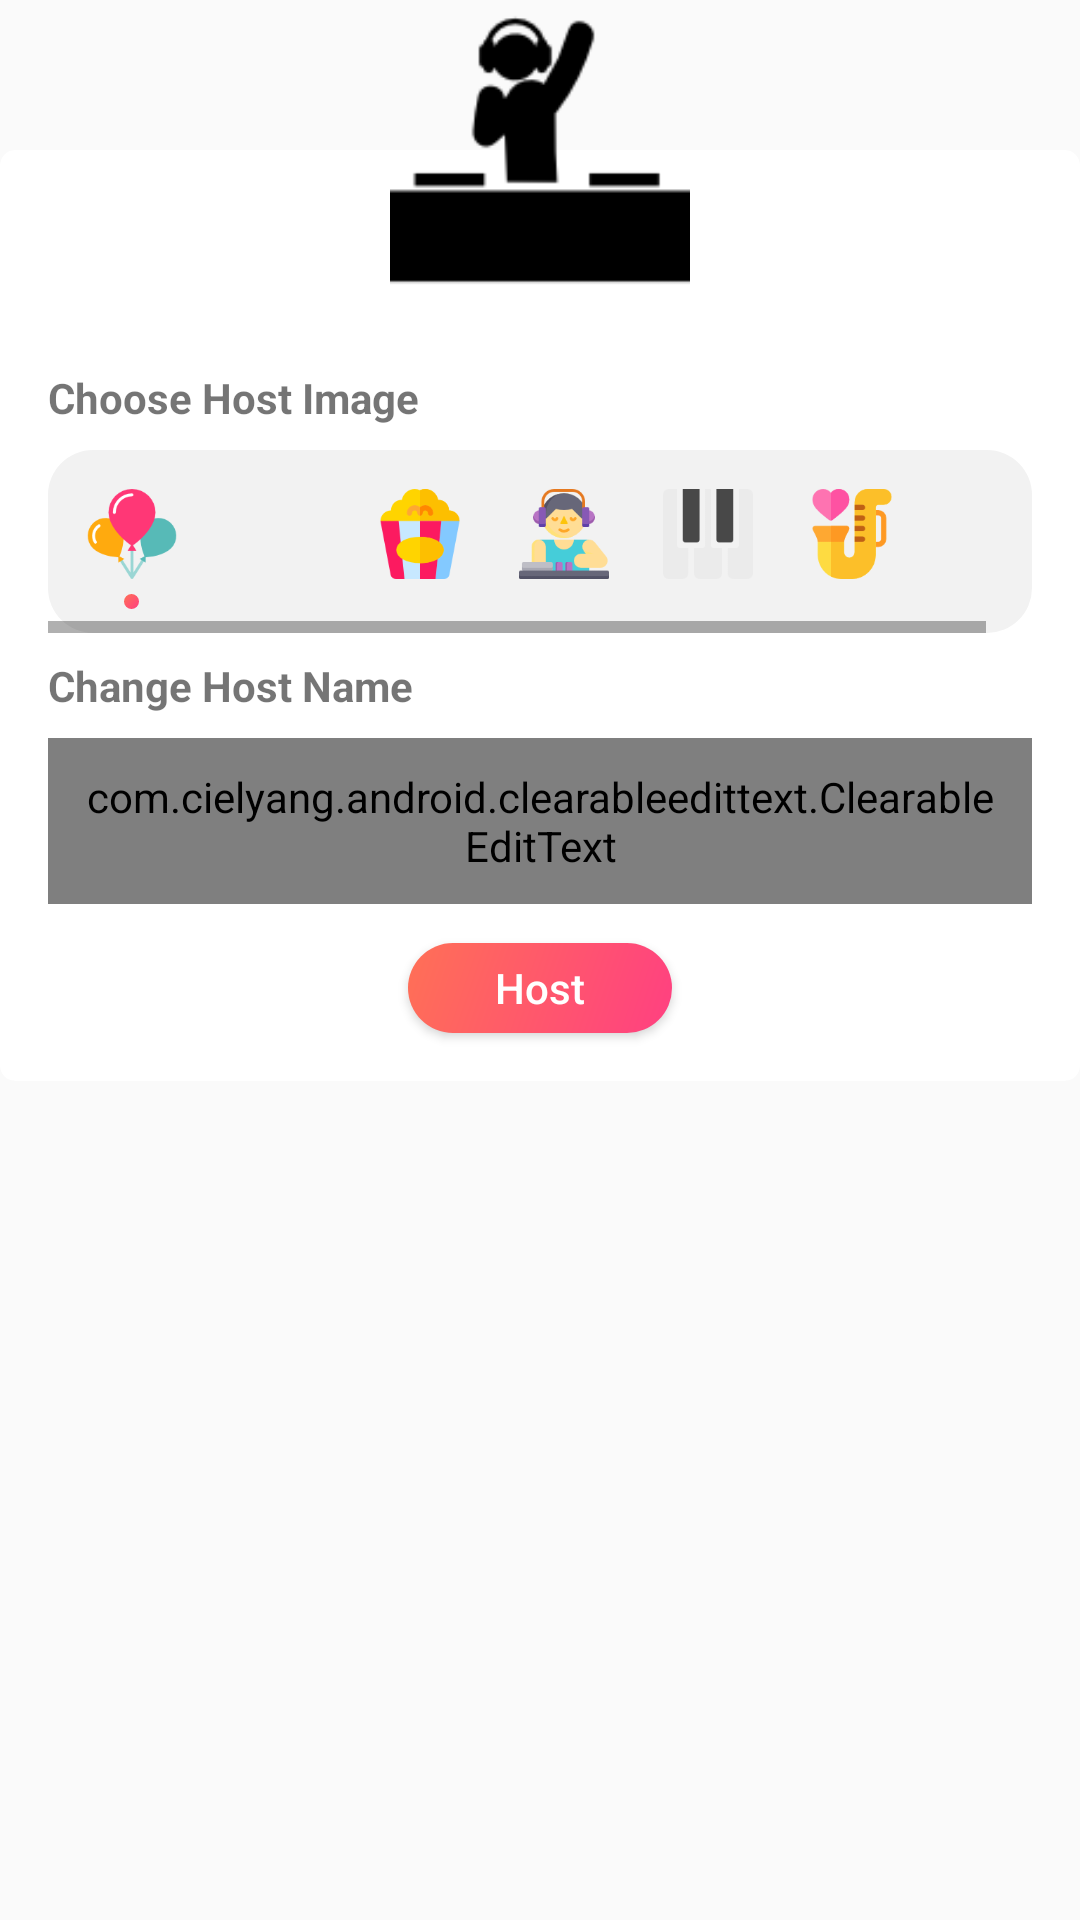

Named icons in this screenshot (1080px x 1920px) and their centers, (x,y):
balloons: (132,534)
popcorn: (420,534)
saxophone: (852,534)
